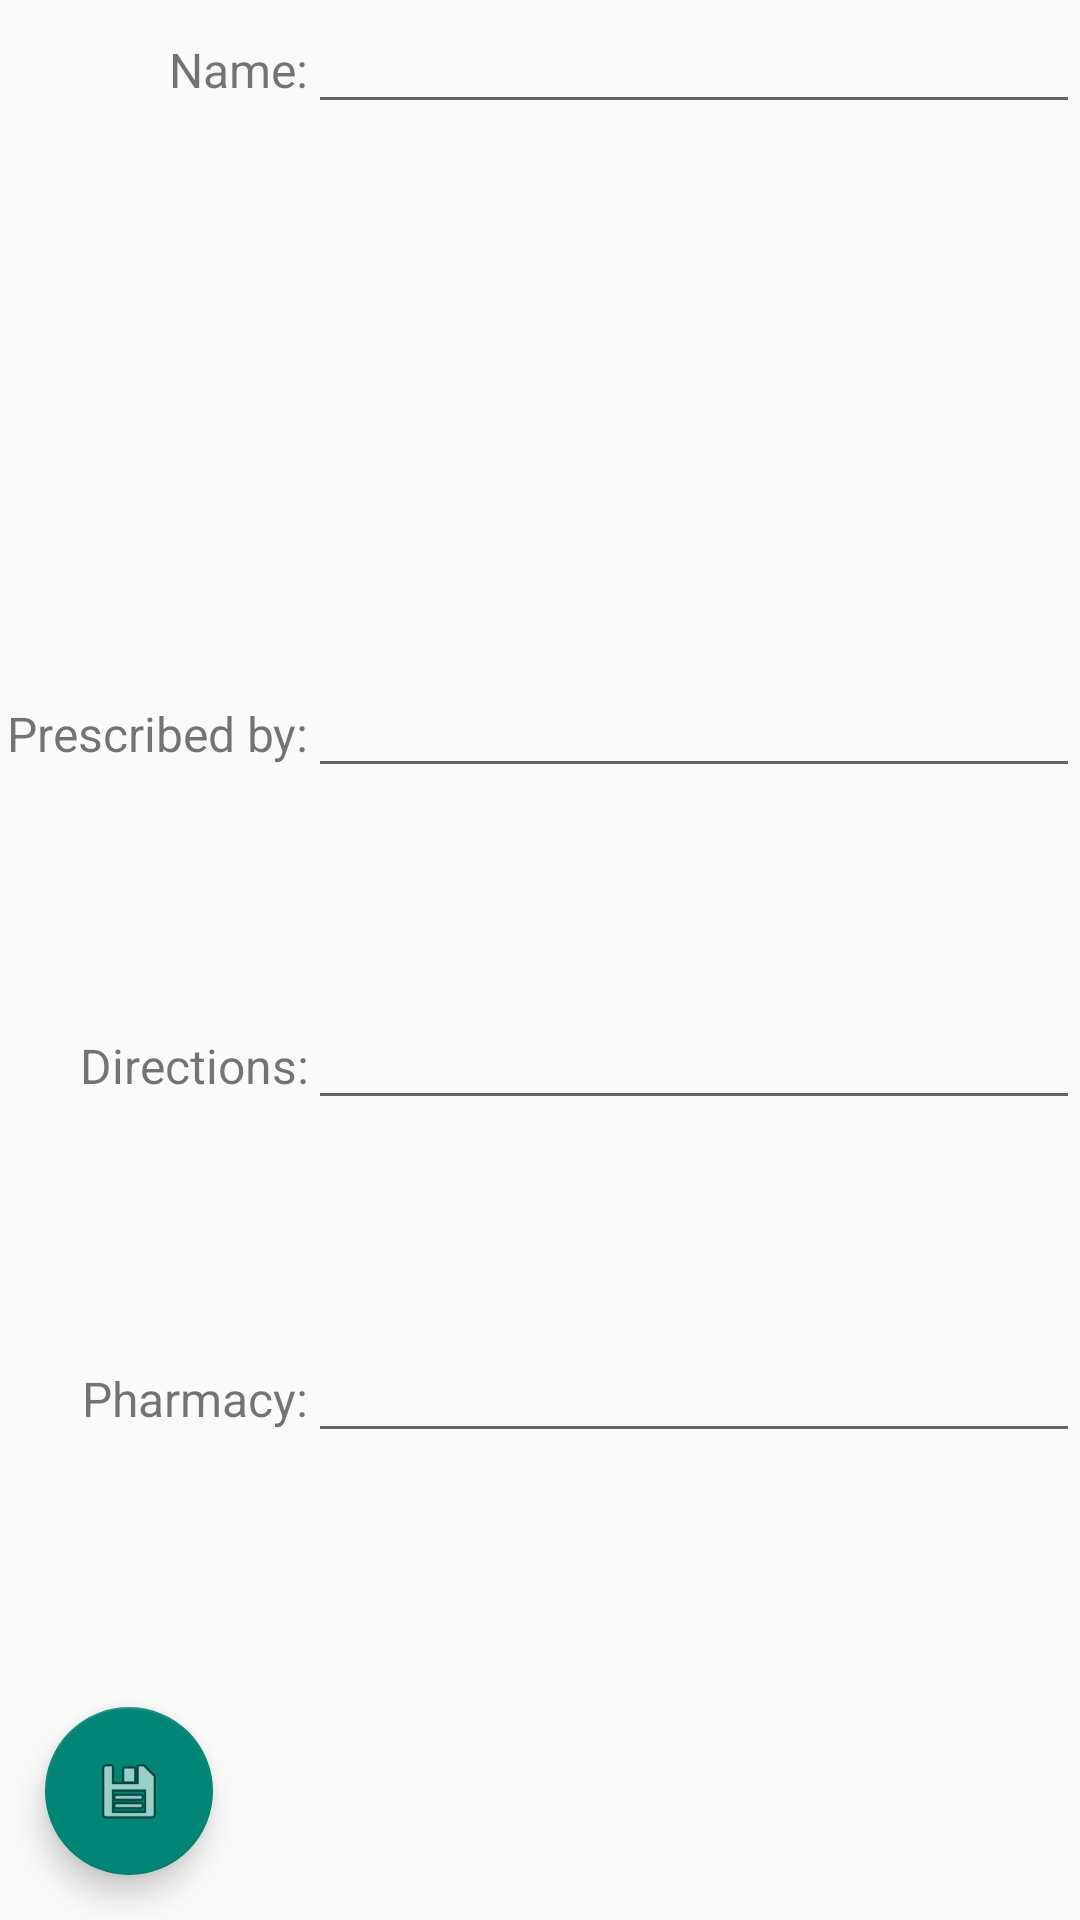

Point at icon controls on the screen. Image size 1080px x 1920px, points as [x,y].
save: [129,1791]
